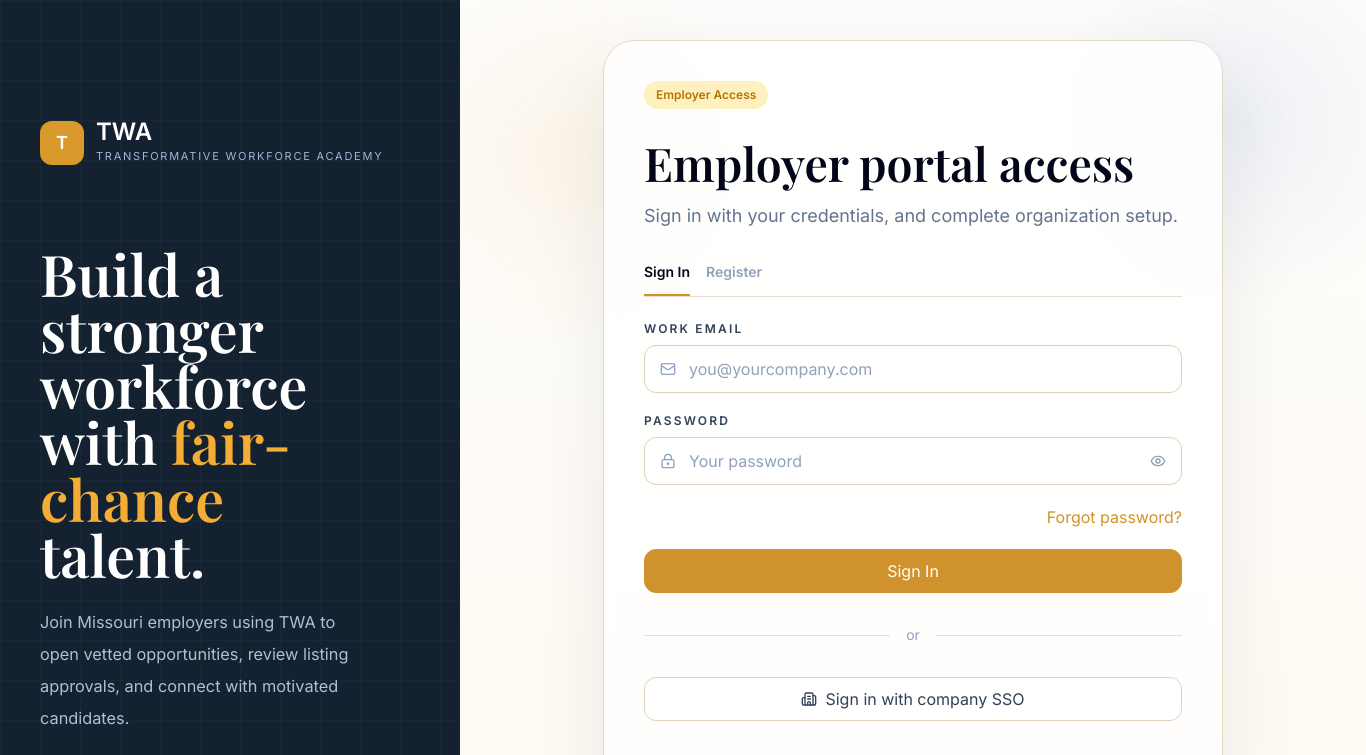
Test: employer auth renders OTP entry as six visual boxes
Check: the heading "Employer portal access" is shown, box [644,141,1182,186]
Type "employer@example.com" into the field with placeholder "you@yourcompany.com" at (913, 370), box [644,346,1182,394]
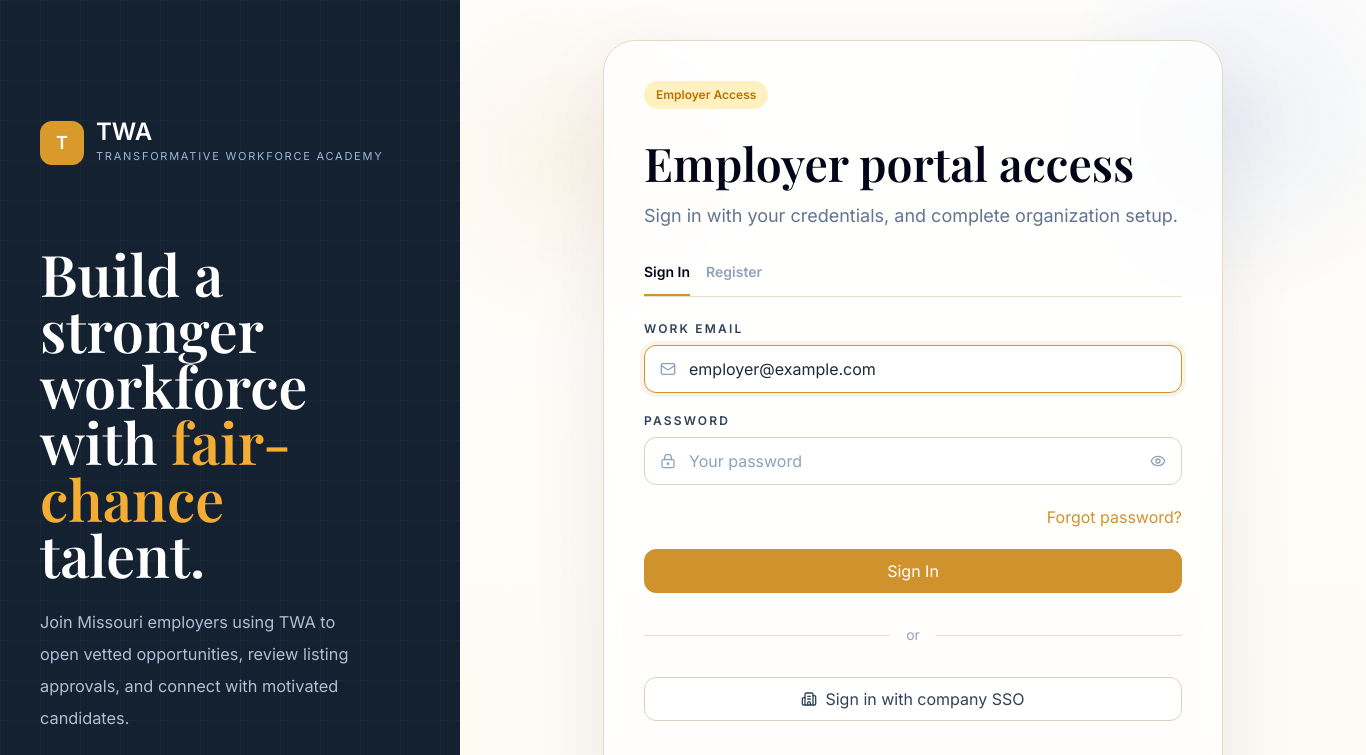
Type "Password123" into the password field with placeholder "Your password" at (913, 462), box [644,438,1182,486]
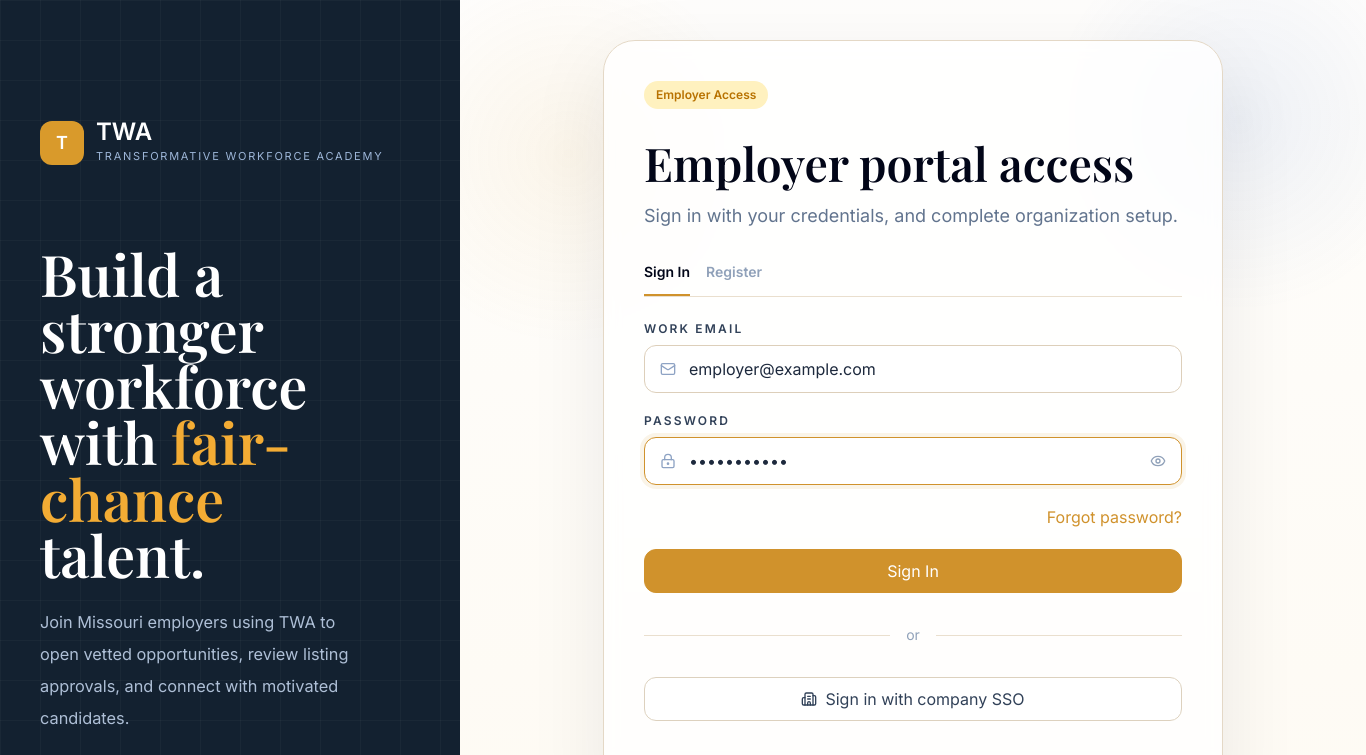
Click the button "Sign In" below "Work email" at (913, 572), box [644,550,1182,594]
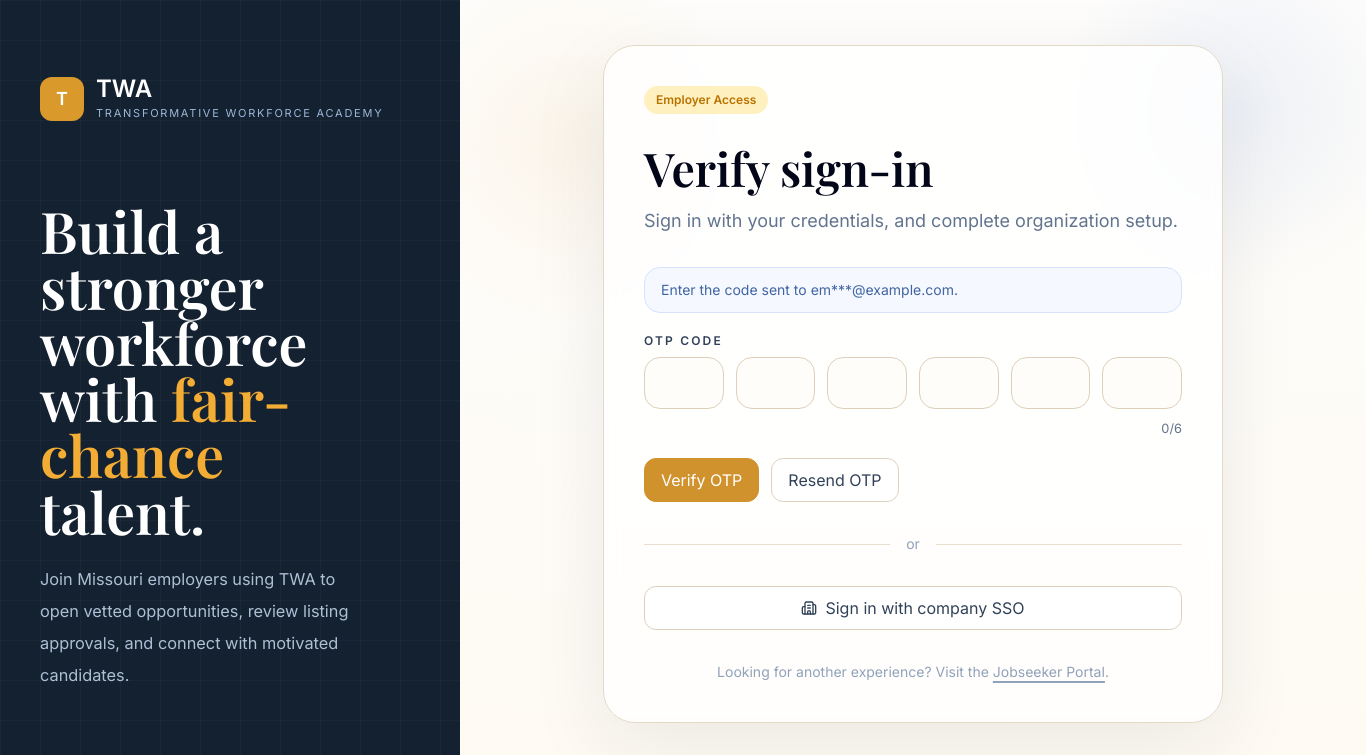
Check: the text "Enter the code sent to em***@example.com." is shown, box [644,267,1182,313]
Check: the number of elements with test id "otp-digit-box" is 6, box [644,357,724,409]; [736,357,815,409]; [827,357,907,409]; [919,357,999,409]; [1011,357,1090,409]; [1102,357,1182,409]
Check: the button "Register" is gone
